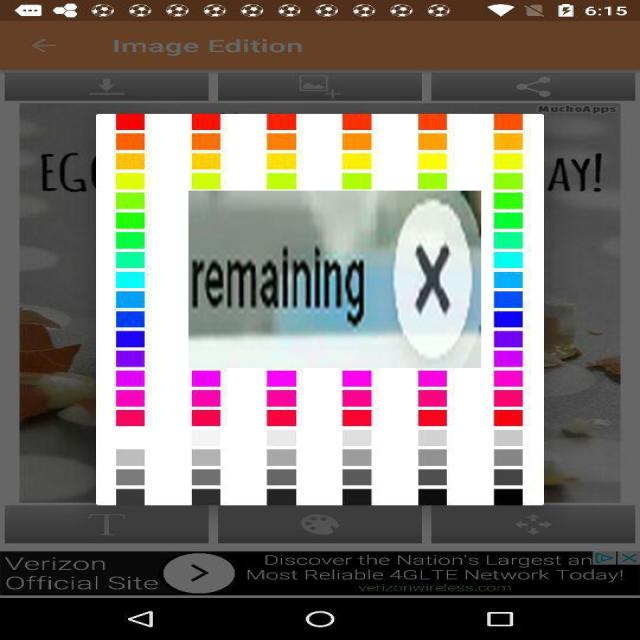misdirection: (189, 191, 481, 368)
